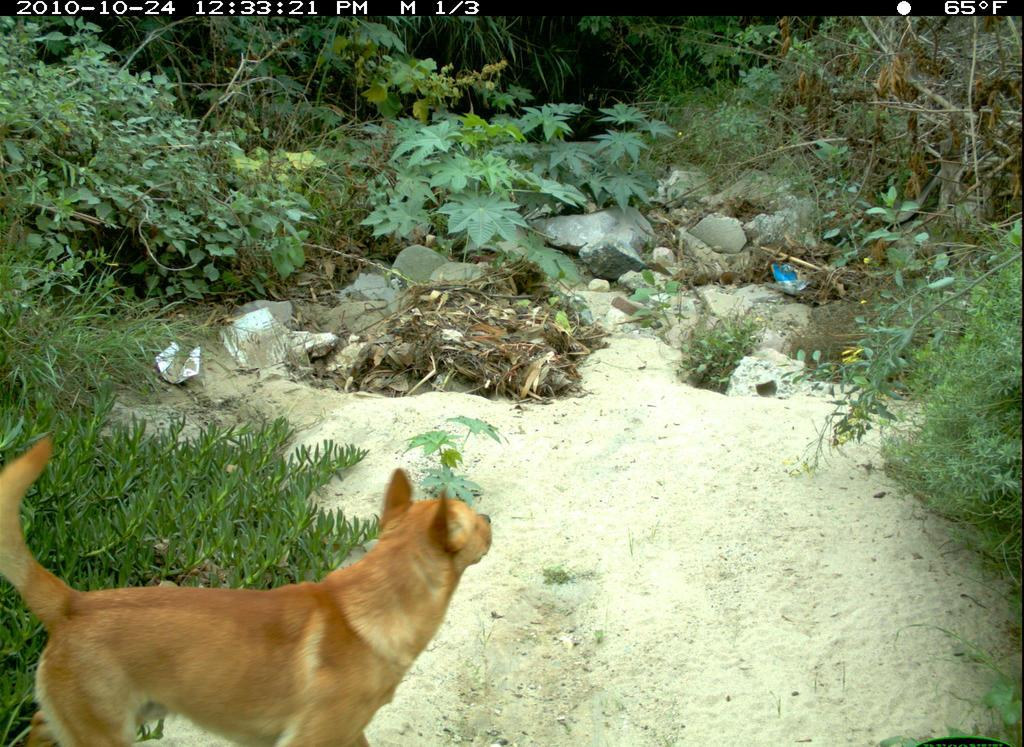dog: (1, 393, 507, 735)
